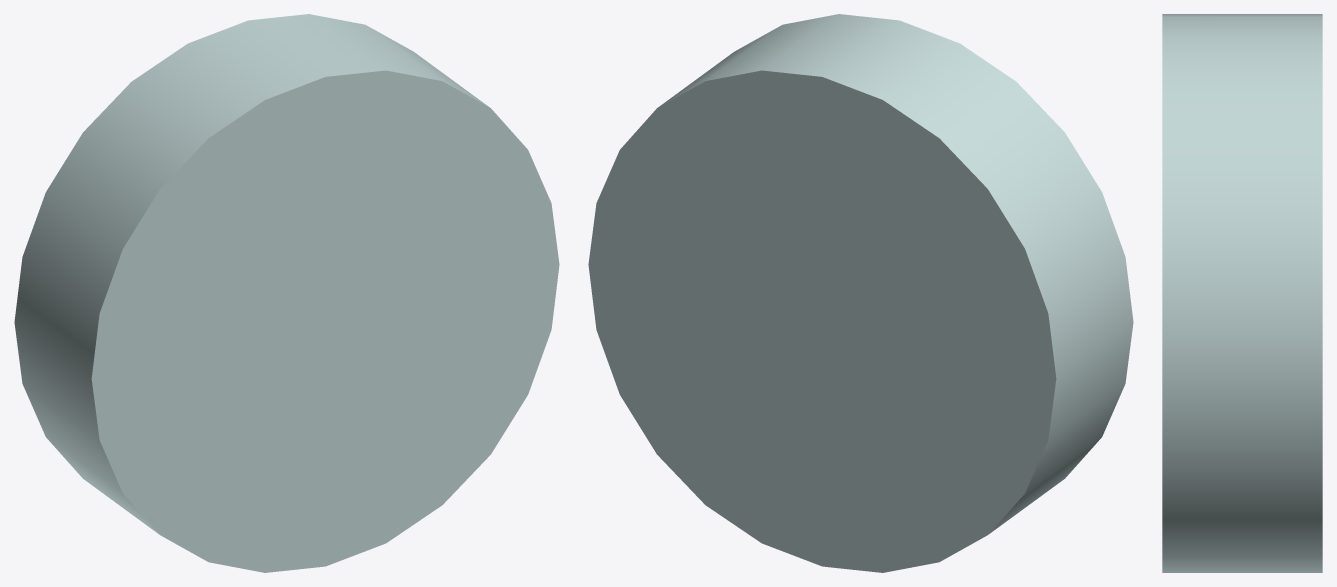
3 renders of one model, left to right at view 1: azimuth 30°, elevation 25°; view 2: azimuth 150°, elevation 25°; view 3: azimuth 270°, elevation 25°, orthographic. The views are drawn at different scales.
Visible parts, largest first — view 1: Group_60; view 2: Group_60; view 3: Group_60.
Part boxes in pixels (x1,y1,x2,y2): Group_60: (14,14,559,572); Group_60: (588,14,1133,572); Group_60: (1162,14,1322,572).
Size of the model in its own units: 138 by 138 by 39.37.
